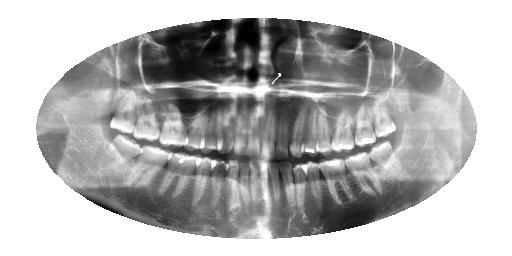Fillings: (344, 151, 386, 198), (316, 157, 355, 206), (159, 152, 199, 198), (159, 92, 189, 150), (366, 140, 409, 179), (132, 89, 161, 142), (106, 89, 138, 136), (354, 105, 377, 147), (302, 107, 321, 157), (371, 101, 396, 138), (194, 156, 212, 206), (292, 162, 307, 212), (210, 157, 224, 208)
